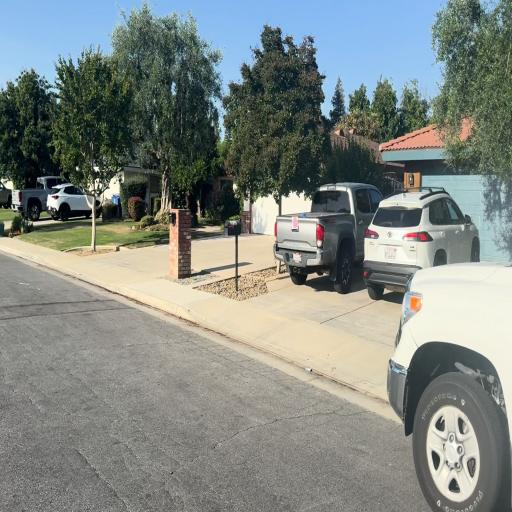bullseye: (292, 217, 298, 230)
